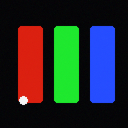0 point: (19, 96, 27, 104)
